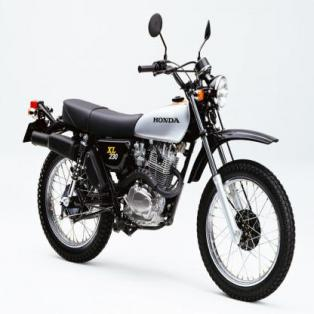Motocicleta: (21, 8, 298, 306)
